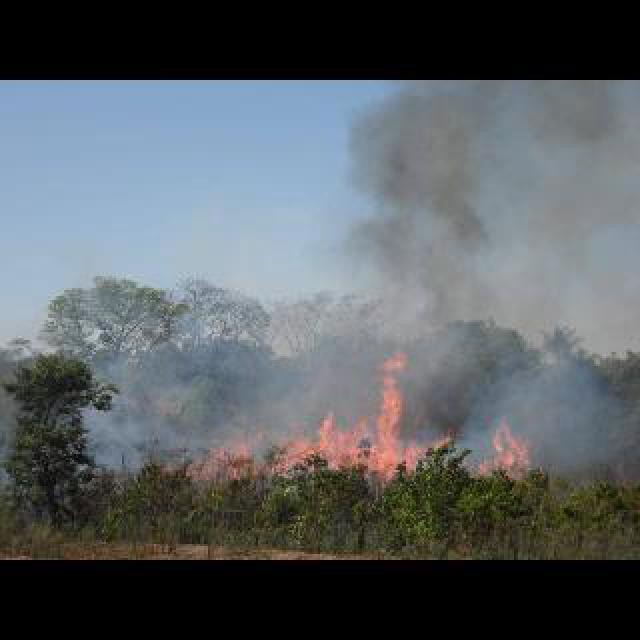Fire: (192, 364, 446, 484), (474, 424, 532, 476)
Smoke: (336, 80, 596, 368)
